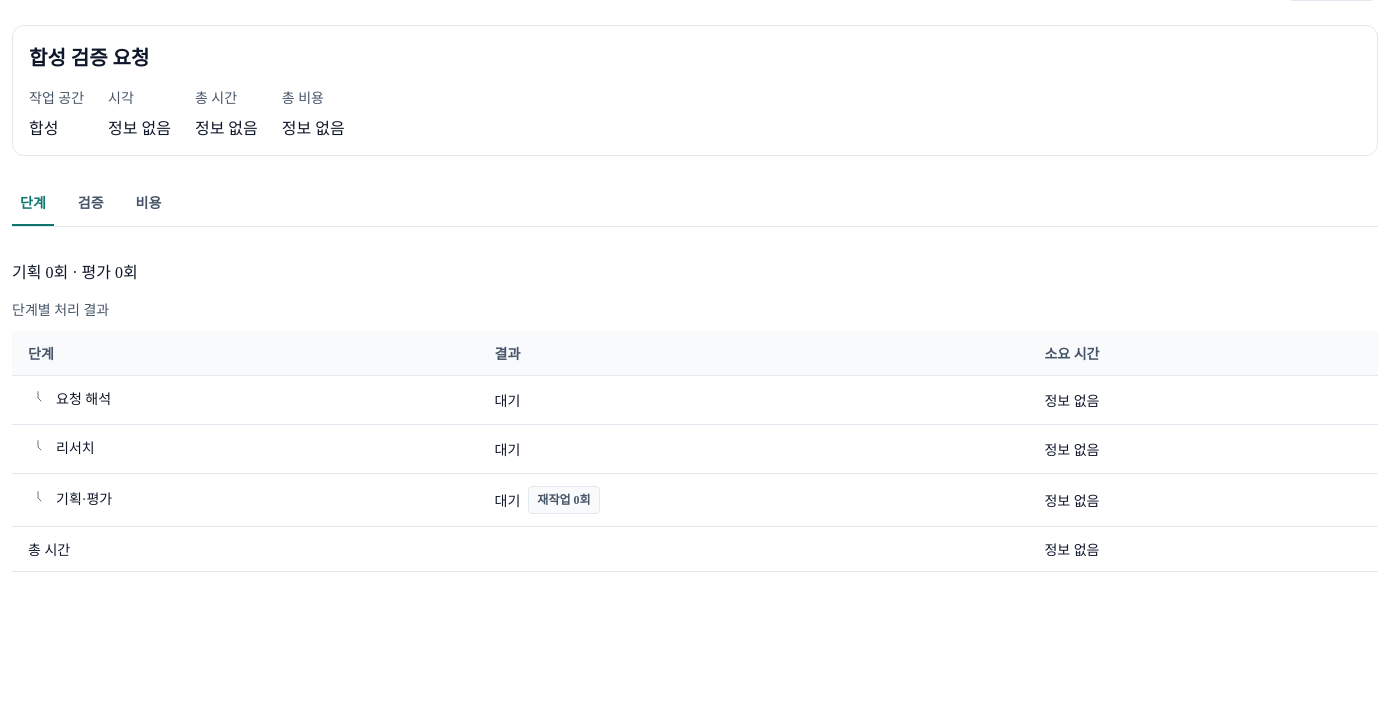
Test case: keeps the verified aggregates and removed values in the verification tab but not model-written values
The width and height of the screenshot is (1390, 719).
Click the tab "검증".
click(91, 203)  # box [70,180,112,226]
(page scrolled)
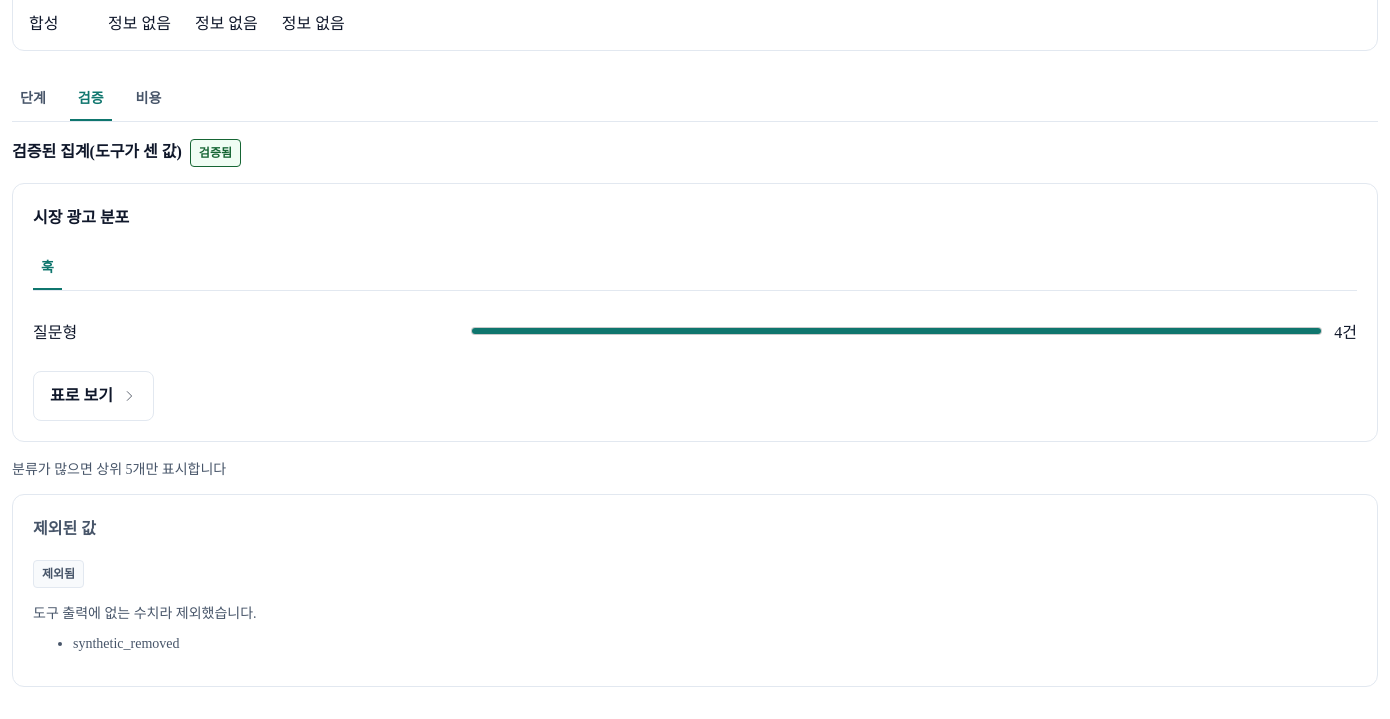
Expected: the element "검증된 집계(도구가 센 값)" is shown, [12,138,1378,478]
Expected: the element "제외된 값" shows "synthetic_removed", [73,636,180,651]
